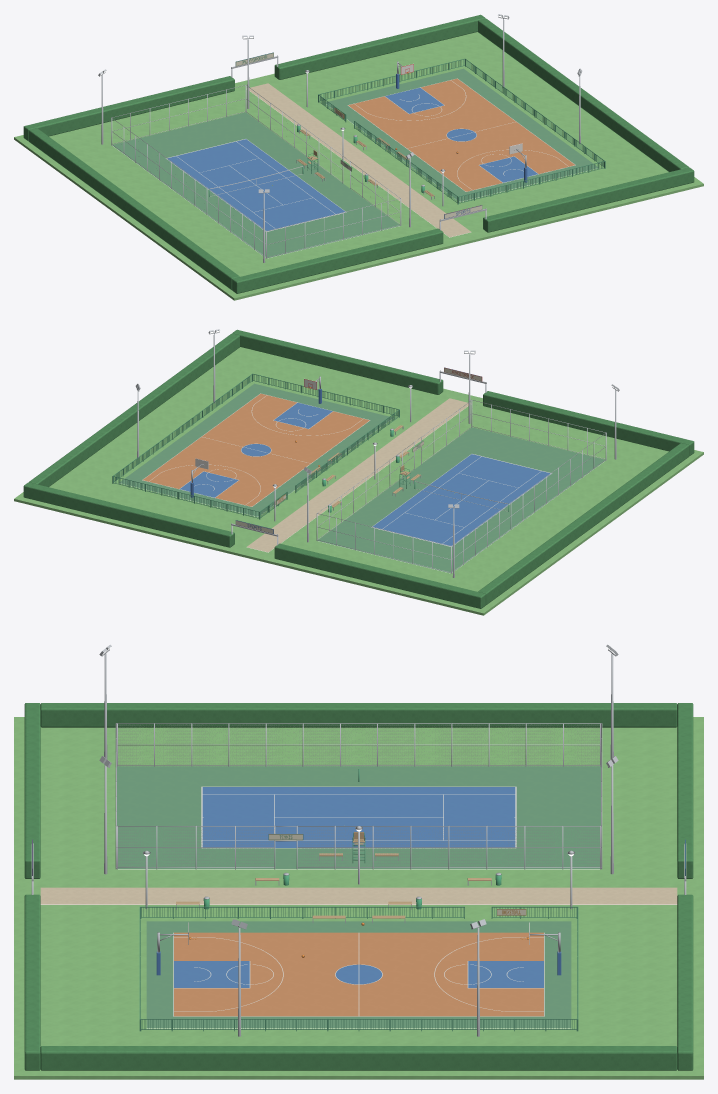
Rendered from sports.glb.
3 renders of one model, top to bottom at view 1: azimuth 30°, elevation 25°; view 2: azimuth 150°, elevation 25°; view 3: azimuth 270°, elevation 25°, orthographic. The views are drawn at different scales.
Parts seen in each view (by area): view 1: Grass, Hedge, Court_Green, Court_Orange, Court_Blue, Steel, Path, Rail_Green, Paint_White, Signs; view 2: Grass, Hedge, Court_Green, Court_Orange, Court_Blue, Steel, Path, Rail_Green, Paint_White, Signs; view 3: Grass, Court_Green, Hedge, Court_Orange, Court_Blue, Path, Steel, Rail_Green, Chainlink, Paint_White, Timber.
Part boxes in pixels (x1,y1,x2,y2): Grass: (14,32,703,300); Hedge: (23,14,694,293); Court_Green: (112,68,598,258); Court_Orange: (348,78,574,191); Court_Blue: (167,88,537,230); Steel: (98,14,582,262); Path: (246,83,470,237); Rail_Green: (209,58,605,204); Paint_White: (166,78,575,231); Signs: (235,52,482,218); Grass: (14,347,703,615); Hedge: (23,329,694,608); Court_Green: (119,383,605,573); Court_Orange: (143,393,369,506); Court_Blue: (180,403,550,545); Steel: (135,329,619,577); Path: (247,398,471,552); Rail_Green: (112,373,508,519); Paint_White: (142,393,551,546); Signs: (235,367,482,533); Grass: (14,717,703,1079); Court_Green: (117,766,600,1027); Hedge: (24,703,693,1070); Court_Orange: (174,932,543,1016); Court_Blue: (174,787,543,987); Path: (40,887,677,904); Steel: (31,644,686,1036); Rail_Green: (139,769,578,1031); Chainlink: (118,724,599,866); Paint_White: (173,786,544,1016); Timber: (176,832,491,918).
Size of the model in its own units: 64 by 9.82 by 52.
24 materials, 11 textured.
